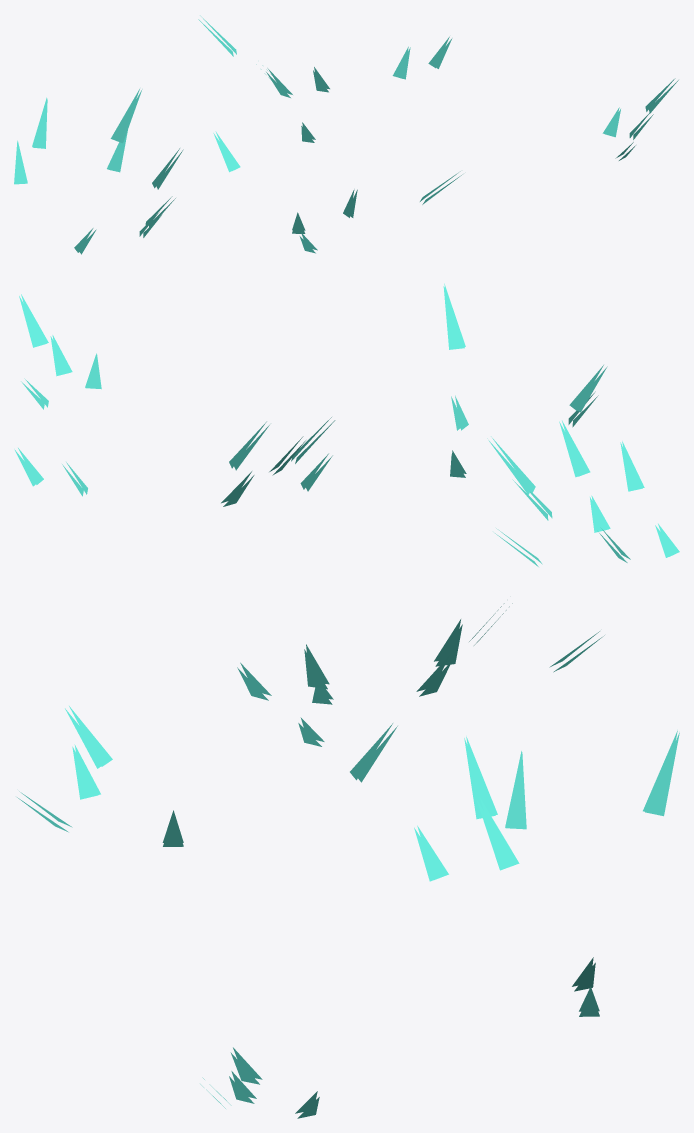
File: floor_glow_grass_glow.fbx
3 views of the same model, one above another, from view 1: azimuth 30°, elevation 25°; view 2: azimuth 150°, elevation 25°; view 3: azimuth 270°, elevation 25° (orthographic). The views are drawn at different scales.
Parts seen in each view (by area): view 1: floor_glow_grass_glow; view 2: floor_glow_grass_glow; view 3: floor_glow_grass_glow.
Part boxes in pixels (bbox=[...]): floor_glow_grass_glow: bbox=[14, 15, 678, 254]; floor_glow_grass_glow: bbox=[14, 283, 679, 566]; floor_glow_grass_glow: bbox=[17, 603, 679, 1118].
Bounding box in the file's own units: 1195 × 225 × 752.
1 material, 1 textured.
